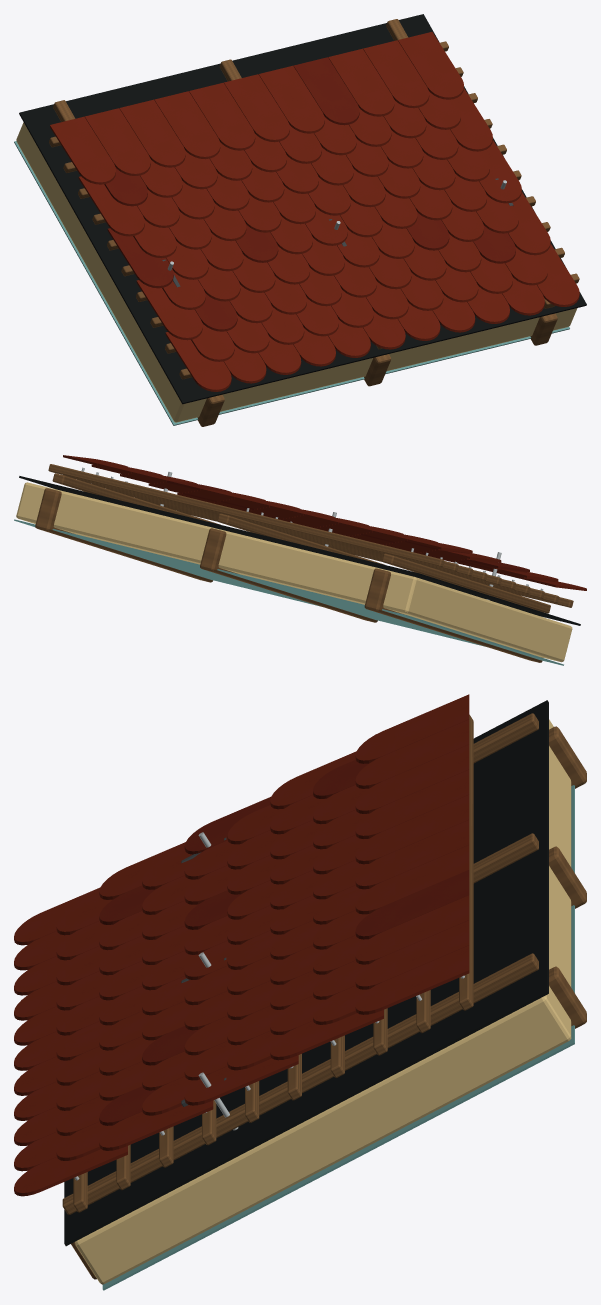
File: modell.glb
3 renders of one model, top to bottom at view 1: azimuth 30°, elevation 25°; view 2: azimuth 150°, elevation 25°; view 3: azimuth 270°, elevation 25°, orthographic. The views are drawn at different scales.
Visible parts, largest first — view 1: g05-deckziegel_deckung, g05-zusatzebene_zusatzebene, g05-daemmung_daemmung, g05-deckziegel_deckung.001, g05-lattung_lattung, g05-luftdichtheit_luftdichtheit, g05-sparren_tragwerk; view 2: g05-daemmung_daemmung, g05-lattung_lattung, g05-deckziegel_deckung, g05-sparren_tragwerk, g05-luftdichtheit_luftdichtheit, g05-zusatzebene_zusatzebene, g05-deckziegel_deckung.001; view 3: g05-deckziegel_deckung, g05-zusatzebene_zusatzebene, g05-daemmung_daemmung, g05-lattung_lattung, g05-deckziegel_deckung.001, g05-luftdichtheit_luftdichtheit, g05-sparren_tragwerk.
Part boxes in pixels (x1,y1,x2,y2): g05-deckziegel_deckung: (50, 32, 579, 391); g05-zusatzebene_zusatzebene: (19, 14, 586, 404); g05-daemmung_daemmung: (16, 122, 577, 422); g05-deckziegel_deckung.001: (104, 57, 515, 331); g05-lattung_lattung: (49, 19, 579, 379); g05-luftdichtheit_luftdichtheit: (14, 141, 569, 425); g05-sparren_tragwerk: (197, 313, 557, 426); g05-daemmung_daemmung: (16, 482, 572, 662); g05-lattung_lattung: (48, 464, 573, 613); g05-deckziegel_deckung: (63, 455, 586, 590); g05-sparren_tragwerk: (35, 488, 542, 662); g05-luftdichtheit_luftdichtheit: (14, 519, 563, 665); g05-zusatzebene_zusatzebene: (19, 476, 580, 625); g05-deckziegel_deckung.001: (166, 480, 529, 571); g05-deckziegel_deckung: (14, 694, 469, 1196); g05-zusatzebene_zusatzebene: (64, 700, 548, 1246); g05-daemmung_daemmung: (75, 719, 571, 1284); g05-lattung_lattung: (62, 713, 538, 1214); g05-deckziegel_deckung.001: (99, 759, 469, 1125); g05-luftdichtheit_luftdichtheit: (102, 785, 574, 1290); g05-sparren_tragwerk: (71, 726, 586, 1279).
Bounding box in the file's own units: 2.09 × 1.07 × 1.74.
Materials: 8 (3 with a texture image).
